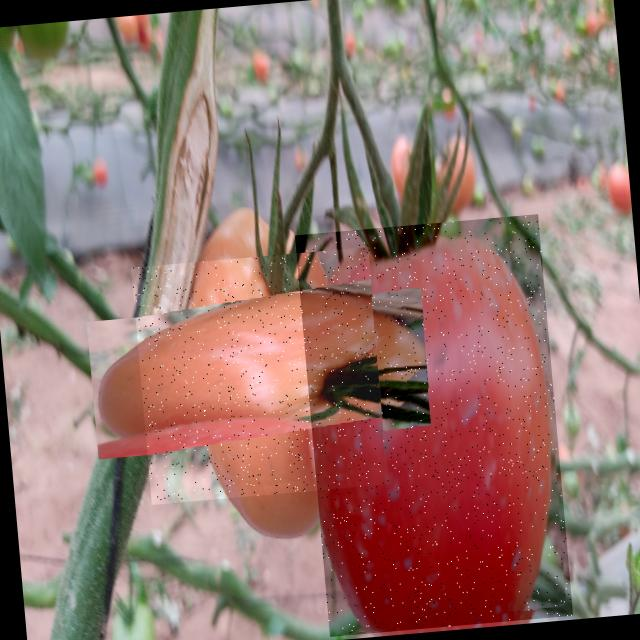Ripe Tomato: (294, 214, 572, 636), (130, 246, 388, 504)
